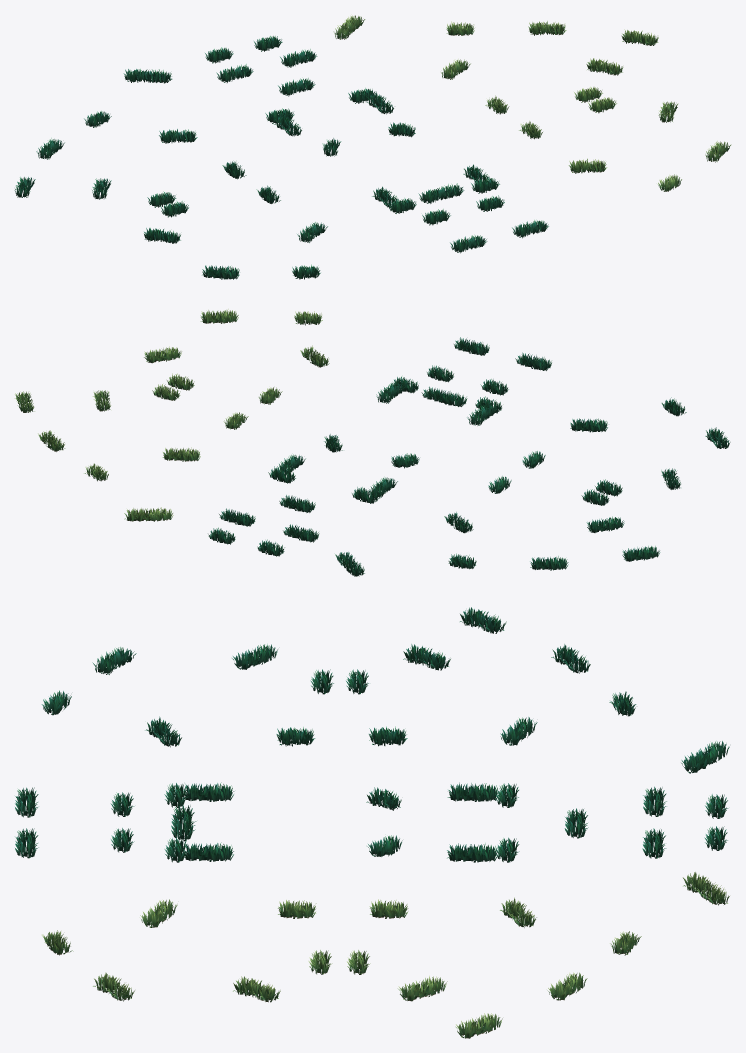
The model's file is pref_SightBlockerGrasses_beta_01_lv1.fbx.
The picture shows the model from 3 angles, top to bottom: view 1: azimuth 30°, elevation 25°; view 2: azimuth 150°, elevation 25°; view 3: azimuth 270°, elevation 25°; orthographic projection. The views are drawn at different scales.
Visible parts, largest first — view 1: pref_sm_beach_techgrass_alpha_01_lv1 (×2); view 2: pref_sm_beach_techgrass_alpha_yellow01_lv1, pref_sm_beach_techgrass_alpha_01_lv1; view 3: pref_sm_beach_techgrass_alpha_03_lv1 (×5), pref_sm_beach_techgrass_alpha_yellow03_lv1 (×3), pref_sm_beach_techgrass_alpha_01_lv1, pref_sm_beach_techgrass_alpha_yellow01_lv1.
Part boxes in pixels (box(x1,y1,x2,y2)): pref_sm_beach_techgrass_alpha_01_lv1 (×2): box(123, 69, 464, 203); pref_sm_beach_techgrass_alpha_yellow01_lv1: box(124, 507, 173, 521); pref_sm_beach_techgrass_alpha_01_lv1: box(421, 386, 467, 406); pref_sm_beach_techgrass_alpha_03_lv1 (×5): box(183, 644, 499, 862); pref_sm_beach_techgrass_alpha_yellow03_lv1 (×3): box(233, 976, 502, 1038); pref_sm_beach_techgrass_alpha_01_lv1: box(681, 741, 729, 773); pref_sm_beach_techgrass_alpha_yellow01_lv1: box(682, 872, 729, 905).
Bounding box in the file's own units: 116 × 2.12 × 83.2.
